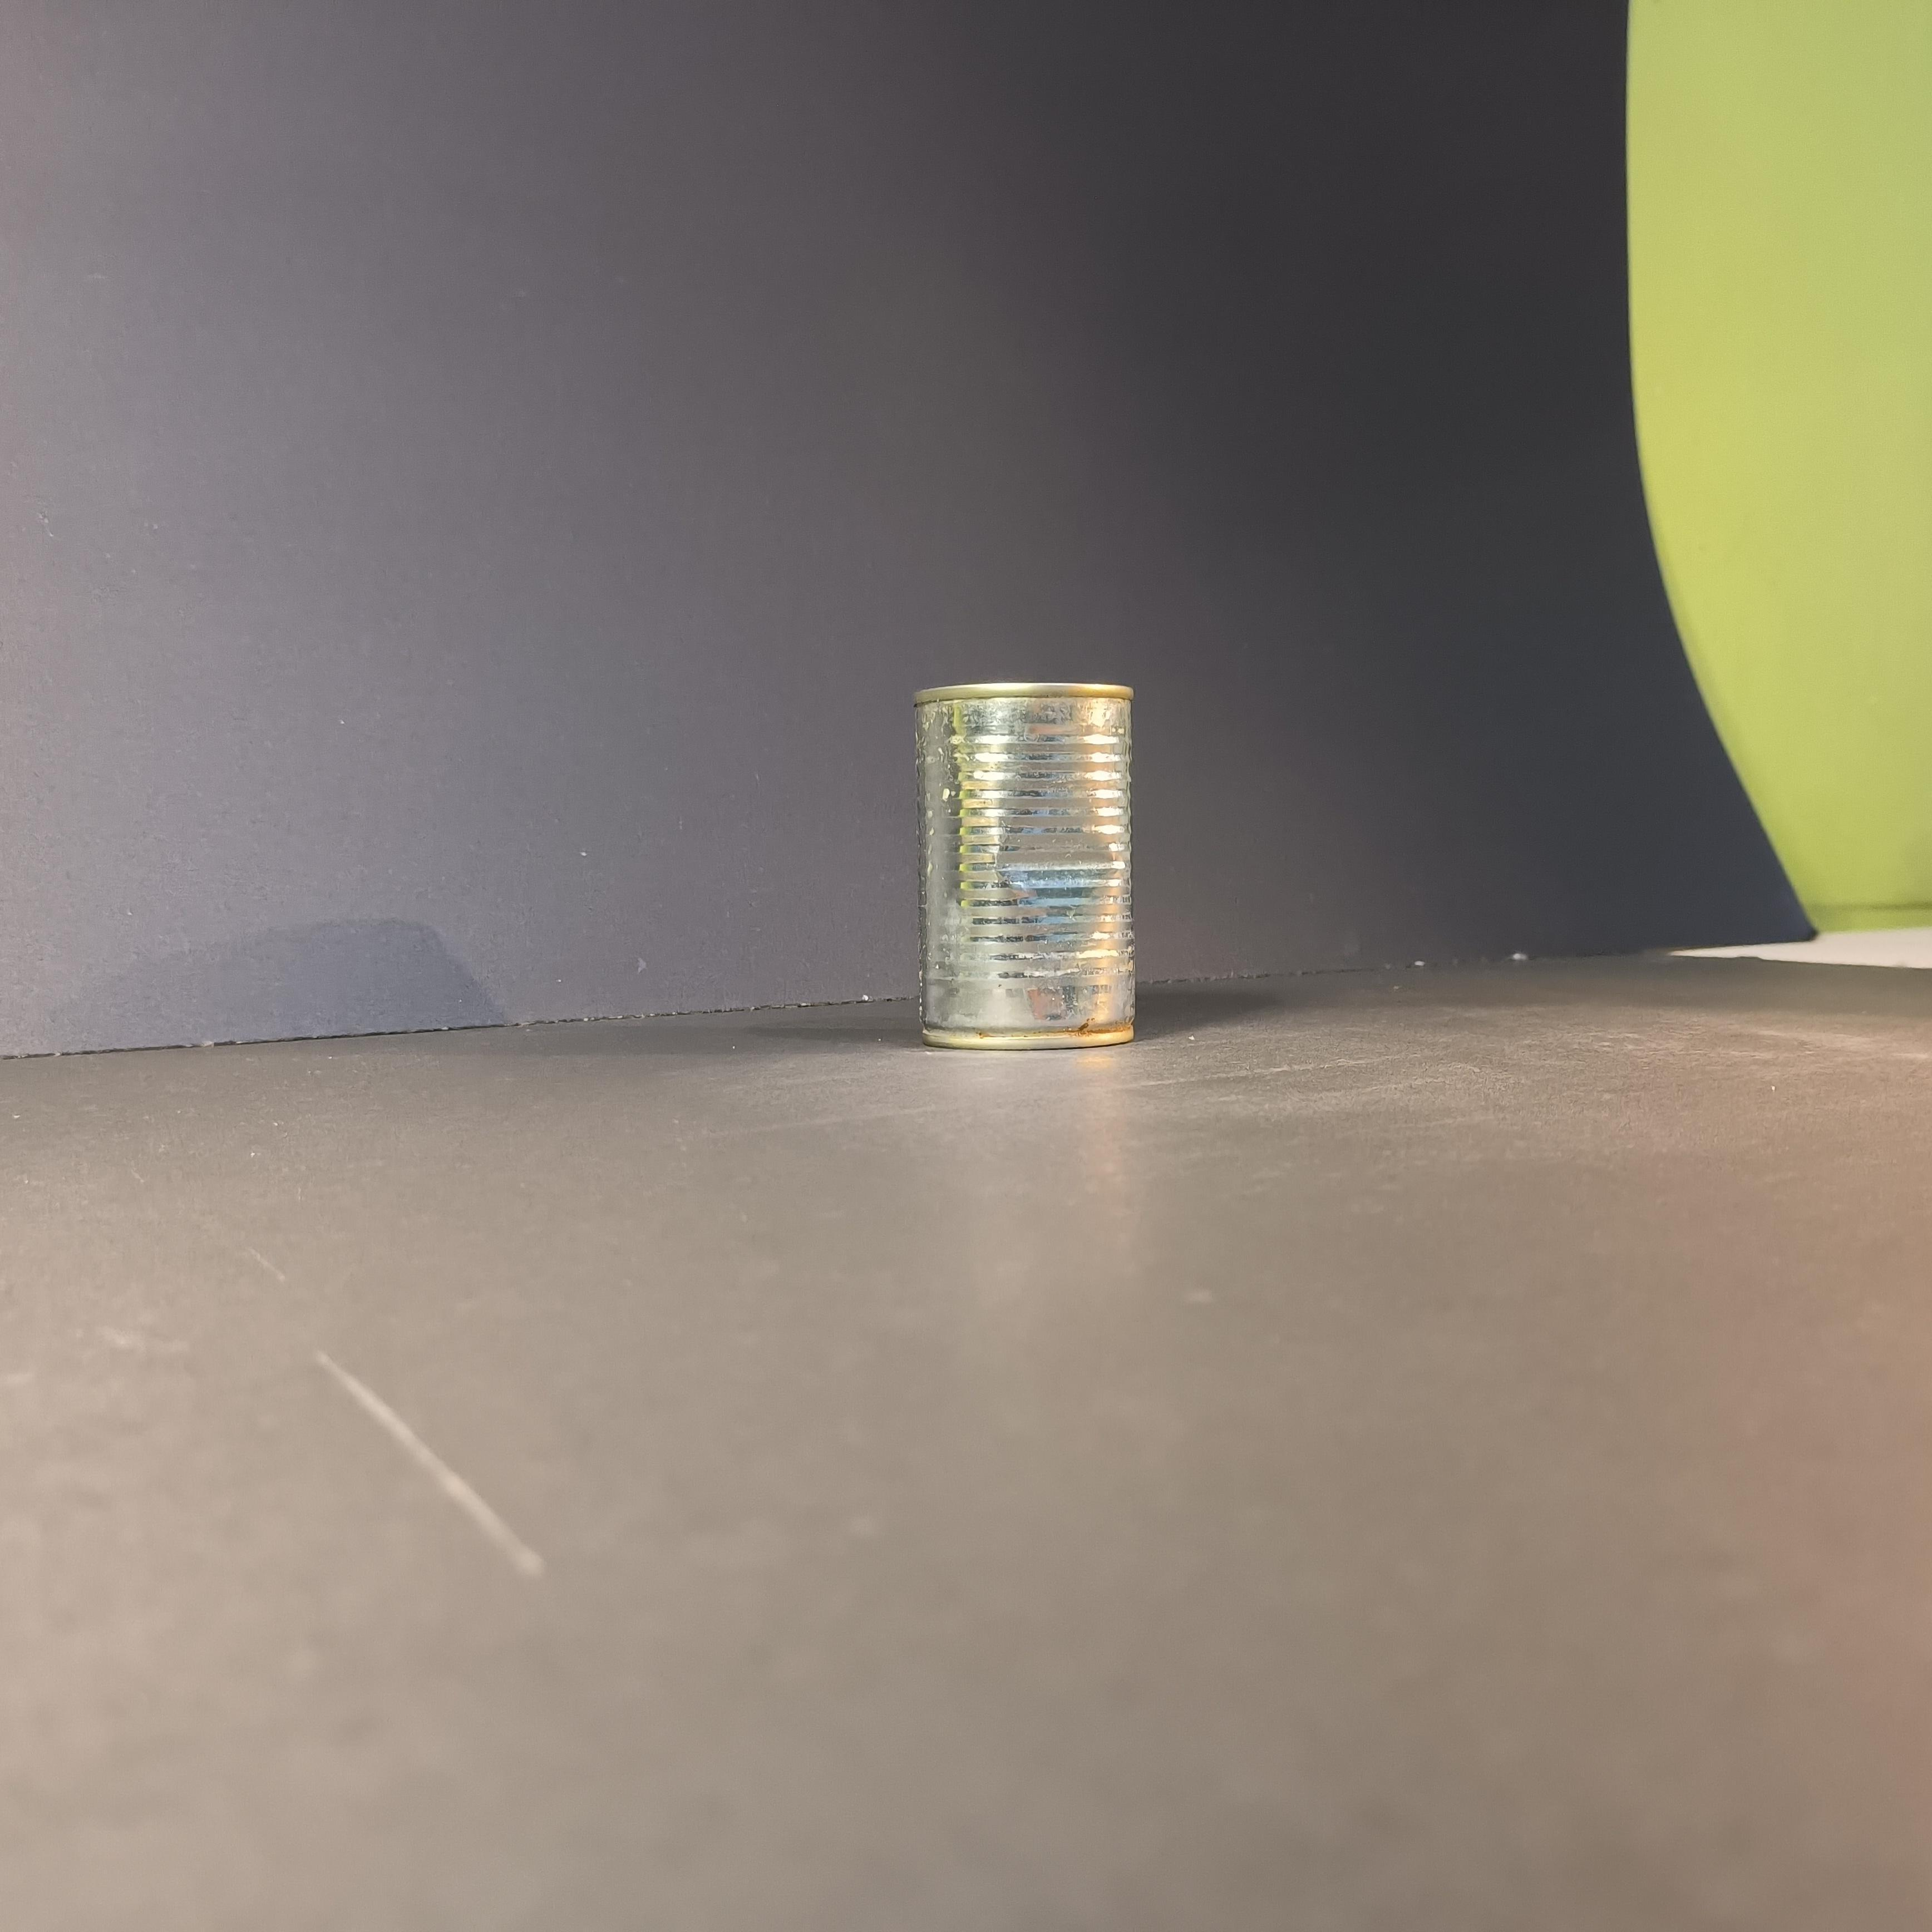Dented: (895, 671, 1152, 1060)
